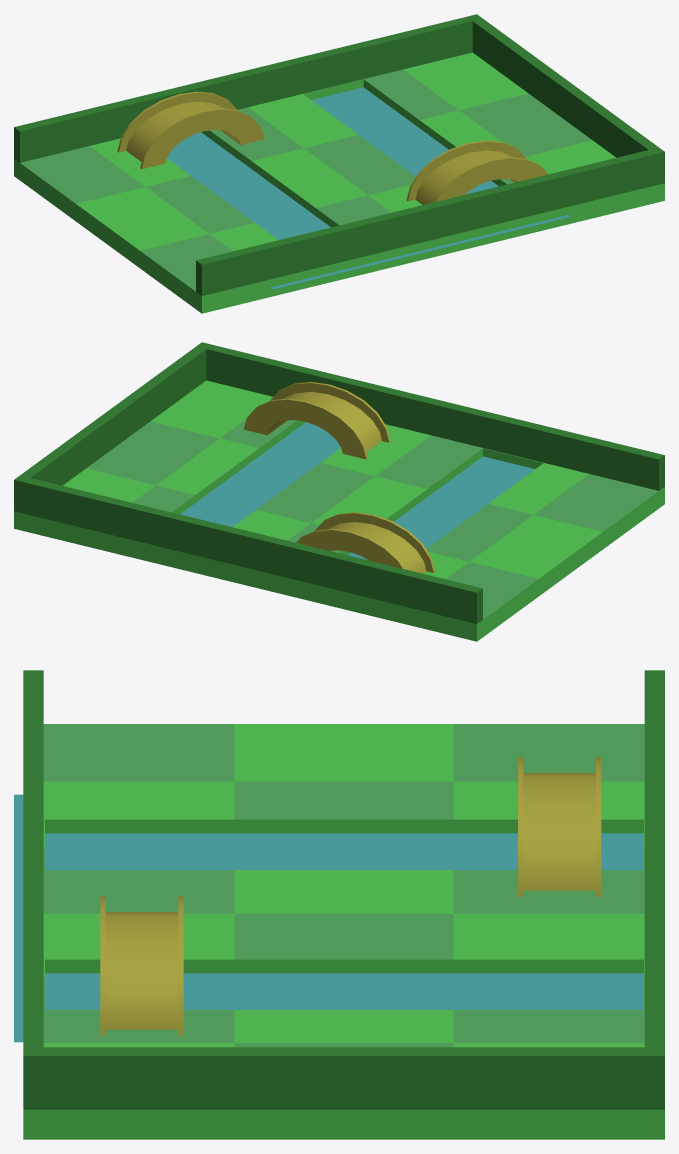
The model's file is bridge2.fbx.
3 views of the same model, one above another, from view 1: azimuth 30°, elevation 25°; view 2: azimuth 150°, elevation 25°; view 3: azimuth 270°, elevation 25° (orthographic). The views are drawn at different scales.
Parts seen in each view (by area): view 1: pasted__pCube9, pPlane1, pasted__pasted__pPipe1, pasted__pPipe1; view 2: pasted__pCube9, pPlane1, pasted__pPipe1, pasted__pasted__pPipe1; view 3: pasted__pCube9, pPlane1, pasted__pPipe1, pasted__pasted__pPipe1.
Part boxes in pixels (x1=…): pasted__pCube9: x1=14, y1=14, x2=664, y2=313; pPlane1: x1=167, y1=87, x2=570, y2=289; pasted__pasted__pPipe1: x1=117, y1=91, x2=264, y2=169; pasted__pPipe1: x1=406, y1=140, x2=547, y2=204; pasted__pCube9: x1=14, y1=342, x2=664, y2=641; pPlane1: x1=180, y1=422, x2=534, y2=560; pasted__pPipe1: x1=243, y1=382, x2=390, y2=459; pasted__pasted__pPipe1: x1=296, y1=512, x2=435, y2=573; pasted__pCube9: x1=23, y1=670, x2=664, y2=1139; pPlane1: x1=14, y1=794, x2=643, y2=1042; pasted__pPipe1: x1=100, y1=896, x2=183, y2=1035; pasted__pasted__pPipe1: x1=518, y1=757, x2=601, y2=896.
Size of the model in its own units: 22.4 by 2.77 by 15.98.
